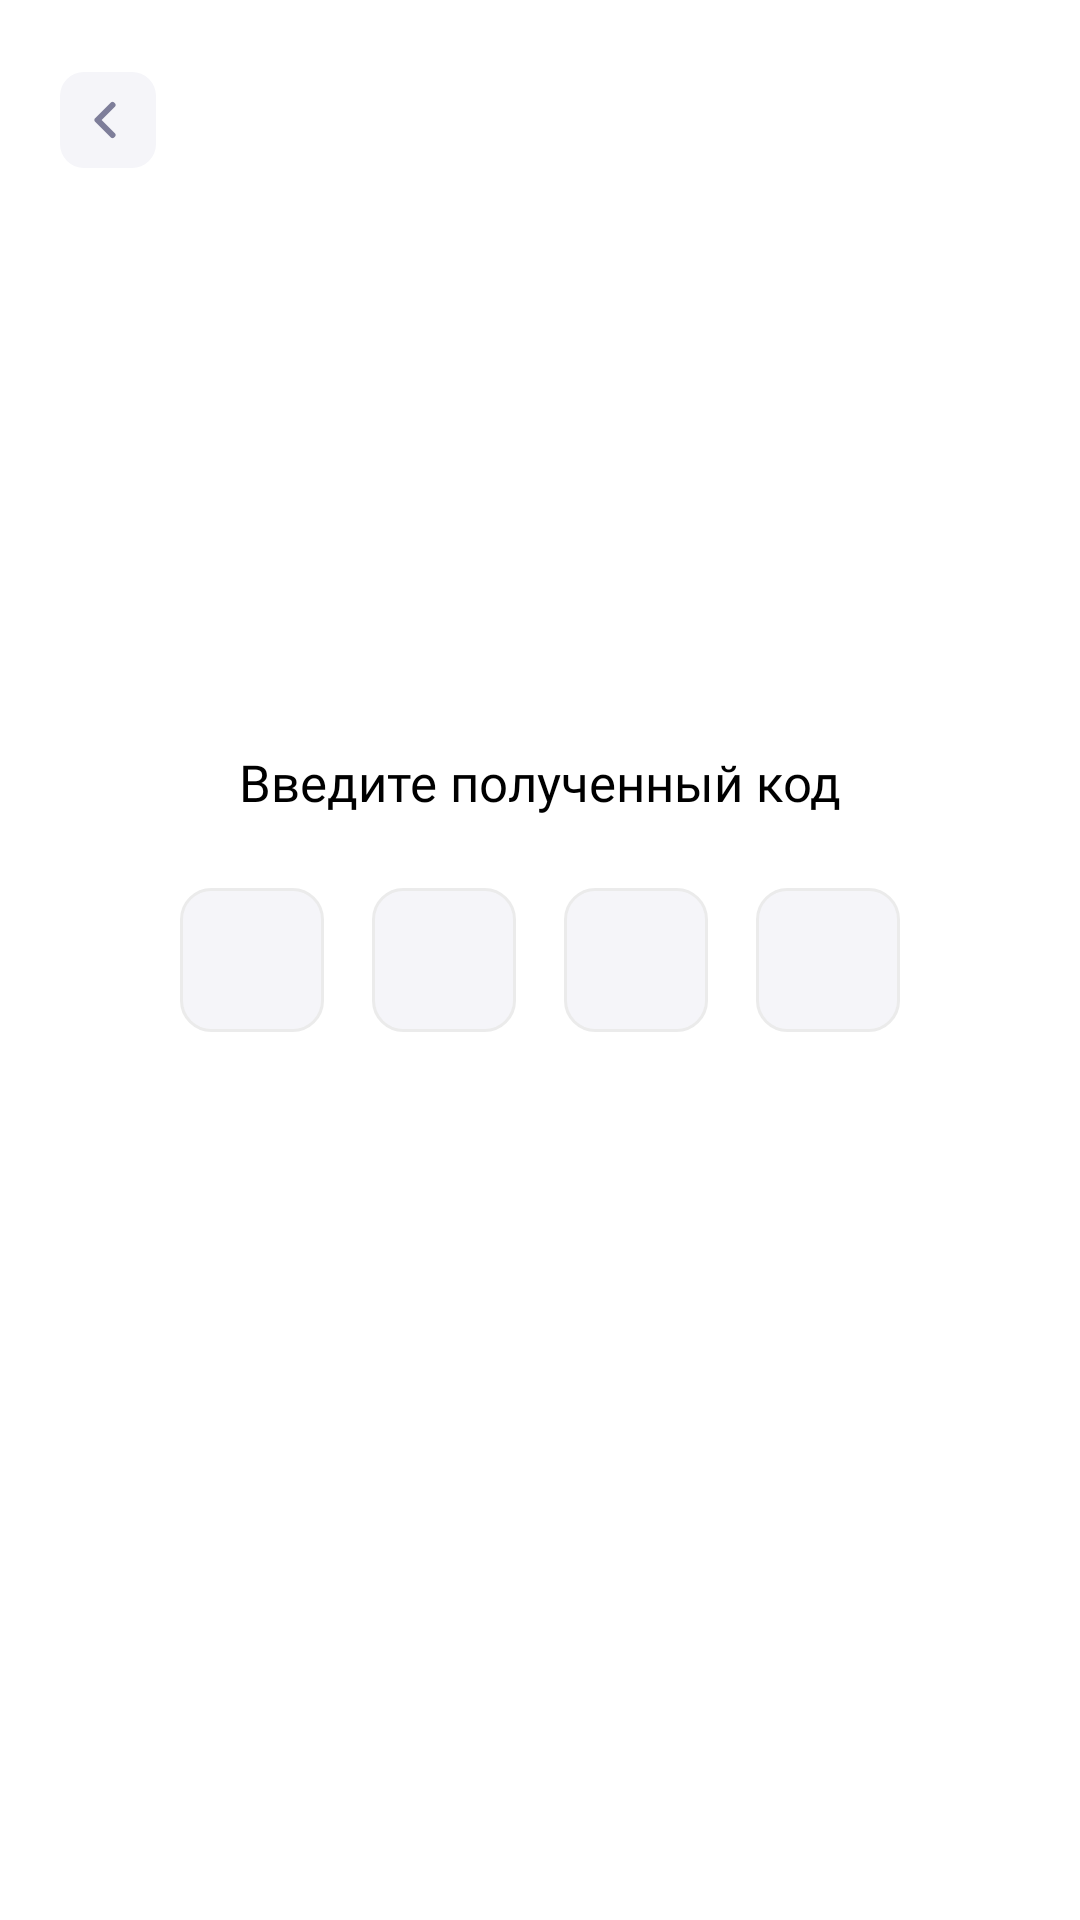

Screen size 1080×1920. Icon name, then its center in pixels as point (x, y):
back: point (108, 120)
